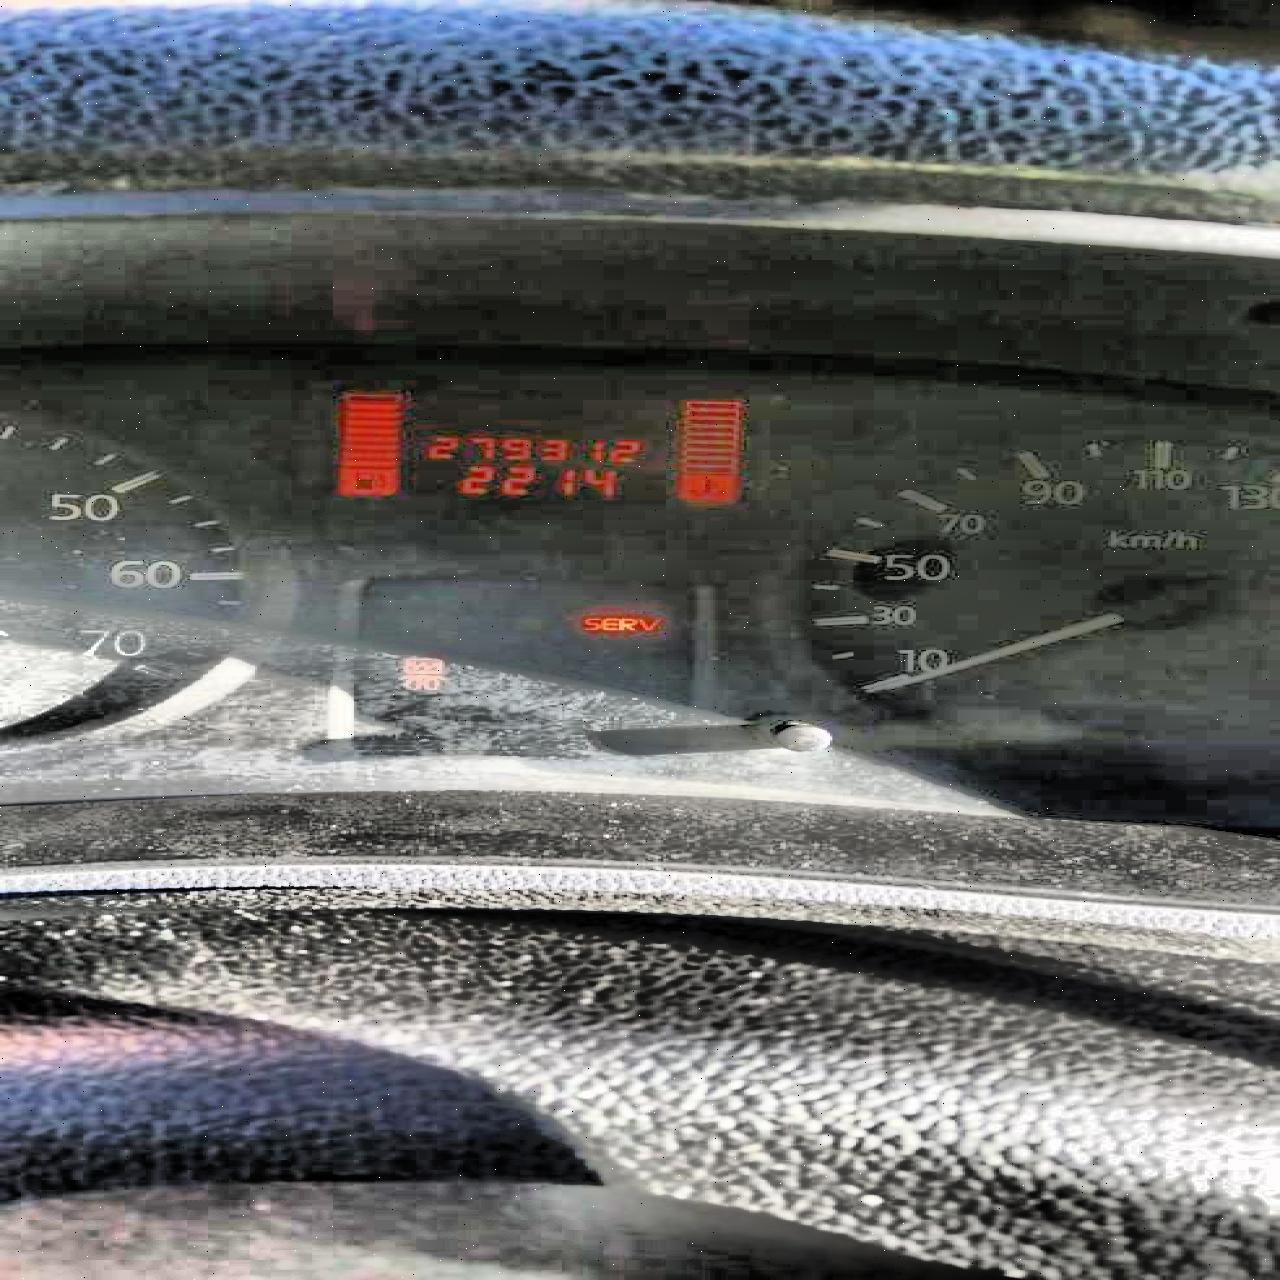1: (559, 468, 574, 493), (588, 440, 601, 459)
2: (458, 463, 492, 492), (499, 467, 531, 495), (606, 440, 635, 461), (427, 436, 455, 457)
3: (536, 440, 564, 459)
4: (580, 469, 612, 495)
7: (468, 436, 492, 458)
9: (499, 437, 529, 458)
odometer: (331, 387, 742, 504)
